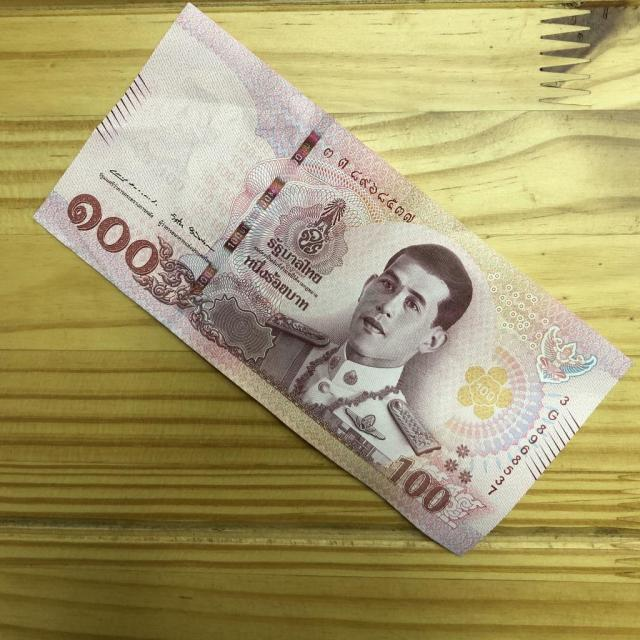THAI100: (32, 5, 630, 559)
